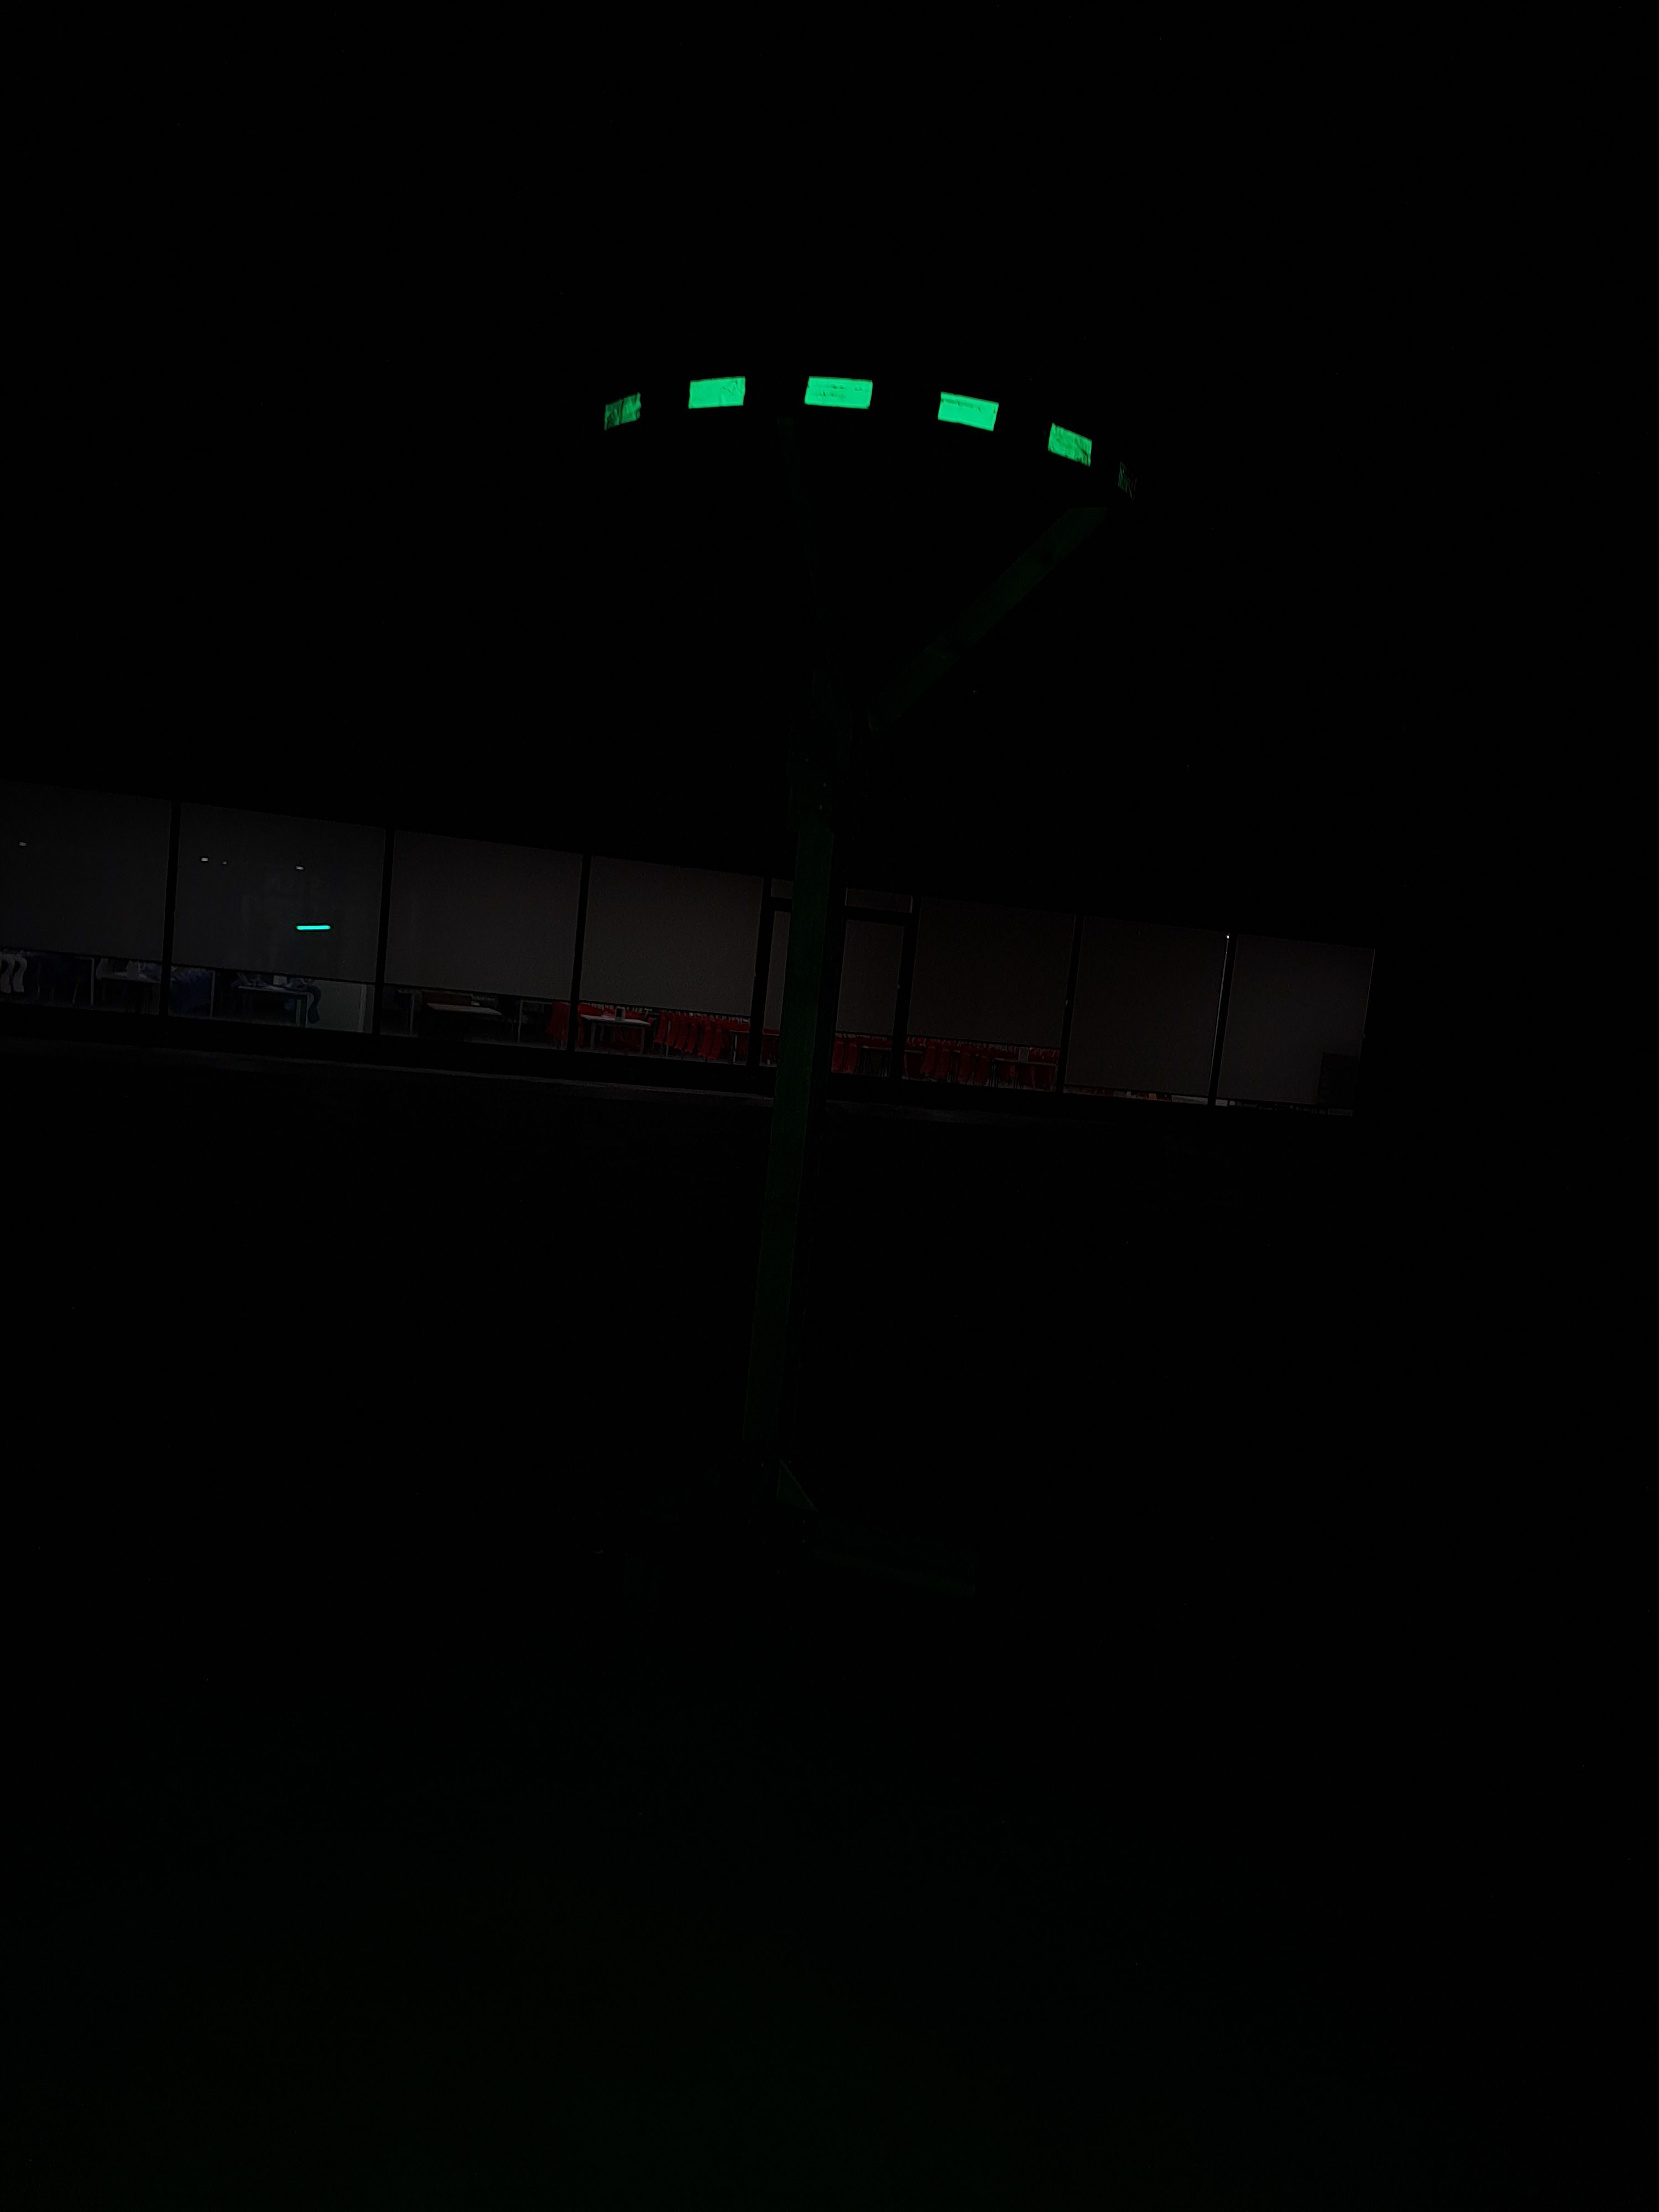hoop: (596, 366, 1096, 472)
